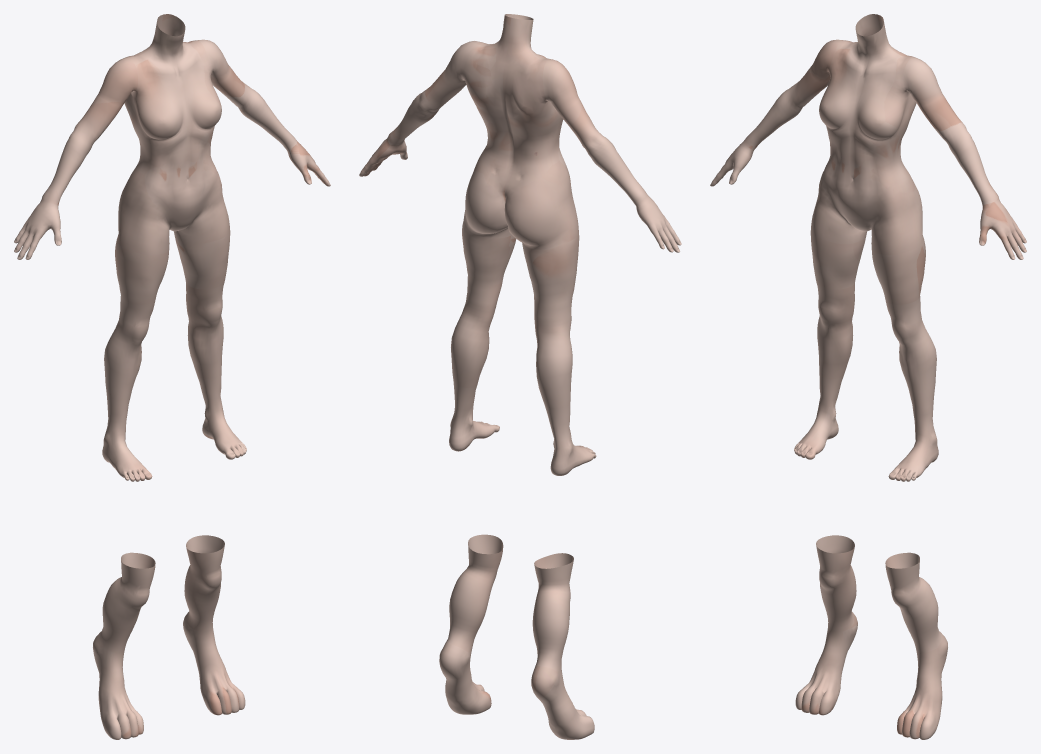
File: MyBody Substance Painter.fbx
3 views of the same model, side by side, from view 1: azimuth 30°, elevation 25°; view 2: azimuth 150°, elevation 25°; view 3: azimuth 330°, elevation 25° (orthographic).
Parts seen in each view (by area): view 1: Body, DigiLegs; view 2: Body, DigiLegs; view 3: Body, DigiLegs.
Boxes of the visible parts, <box> form: Body: <box>14,14,330,481</box>; DigiLegs: <box>93,535,245,739</box>; Body: <box>359,14,681,475</box>; DigiLegs: <box>439,534,594,739</box>; Body: <box>710,14,1026,481</box>; DigiLegs: <box>795,535,947,739</box>.
Size of the model in its own units: 123 by 264 by 33.17.
